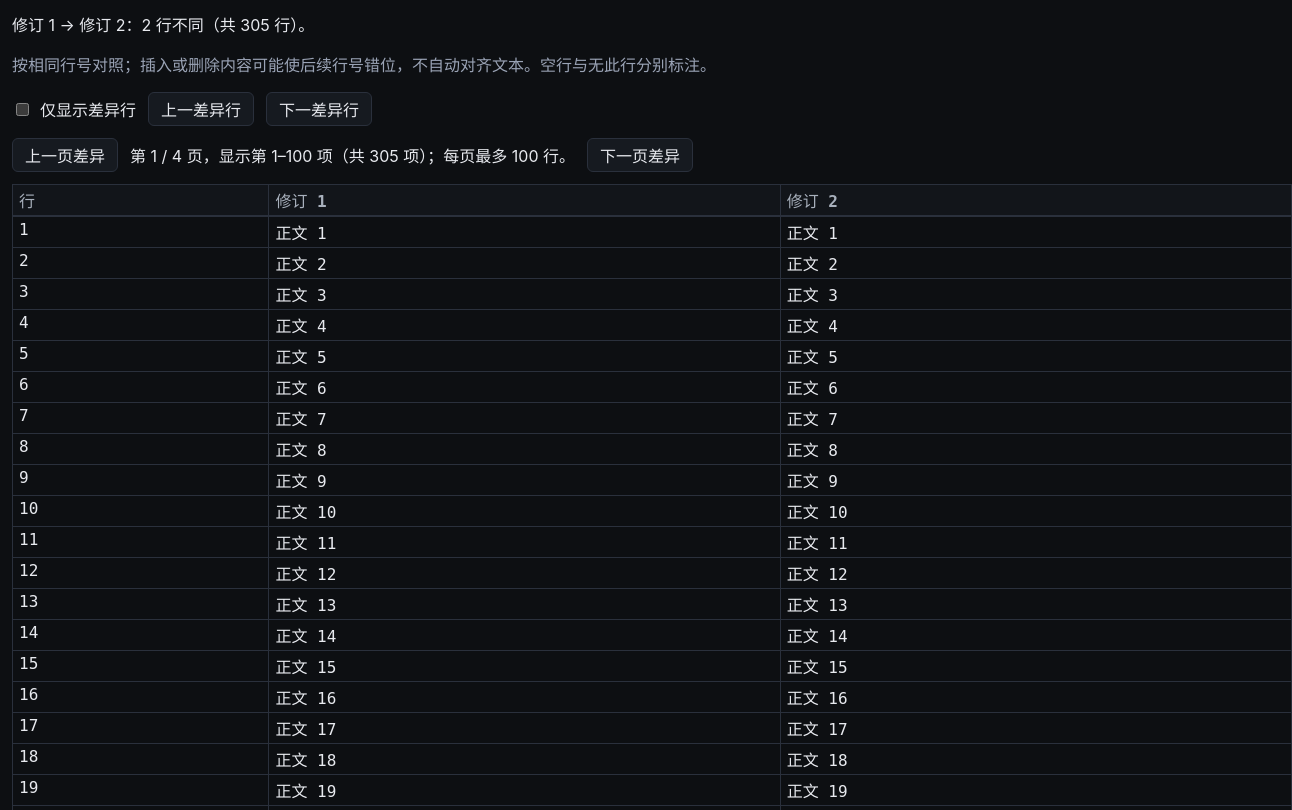
Test: Prompt revision comparison usability › jumps between sparse changed lines across pages and focuses the actual original row
Expected: the button "上一差异行" is disabled, [148,92,254,126]
What coordinates should you click on to do the following:
click the button "下一差异行"
I would click on:
 (319, 109)
Its box is [266,92,372,126].
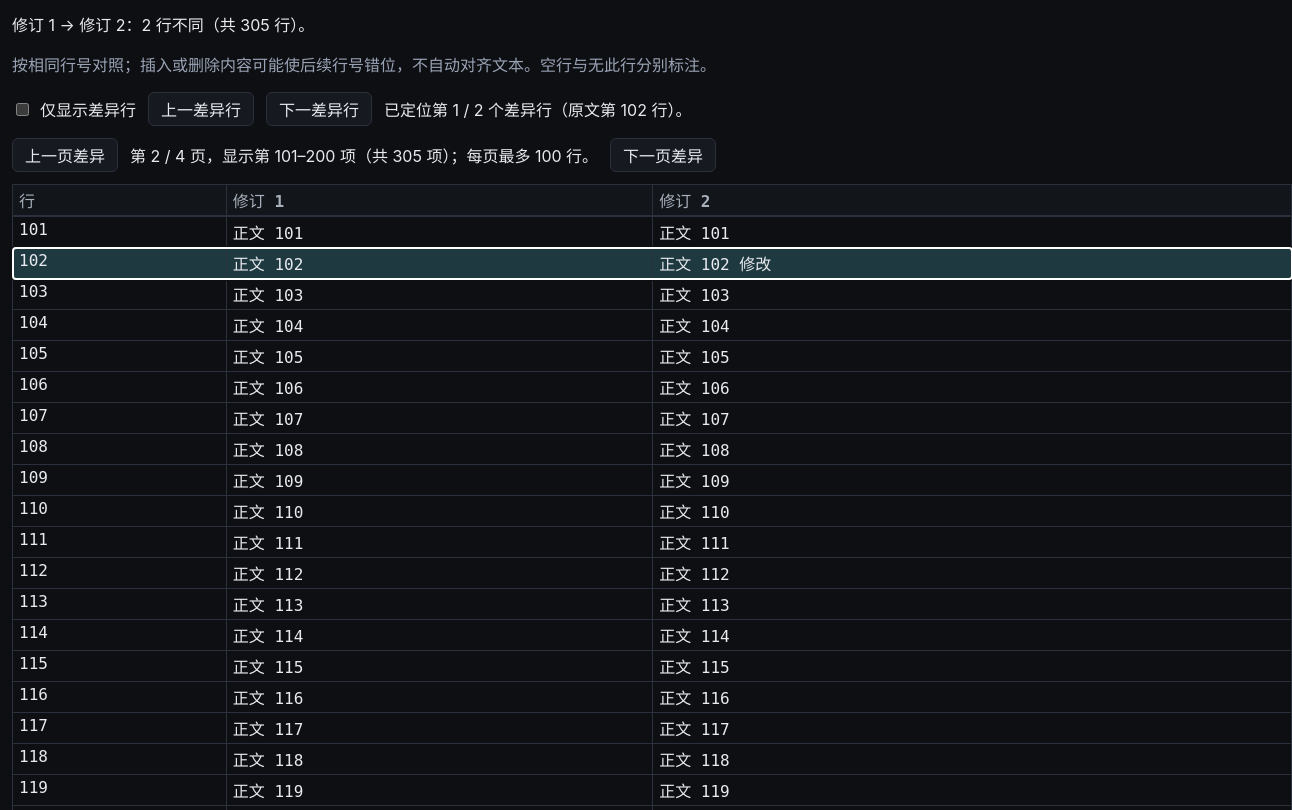
Expected: the text "第 2 / 4 页，显示第 101–200 项（共 305 项）；每页最多 100 行。" is shown, [130,143,598,167]
Expected: the text "102" is shown, [12,248,226,278]
Expected: the text "已定位第 1 / 2 个差异行（原文第 102 行）。" is shown, [384,97,691,121]
What coordinates should you click on to do the following:
click the button "下一差异行"
I would click on:
 (319, 109)
Its box is [266,92,372,126].
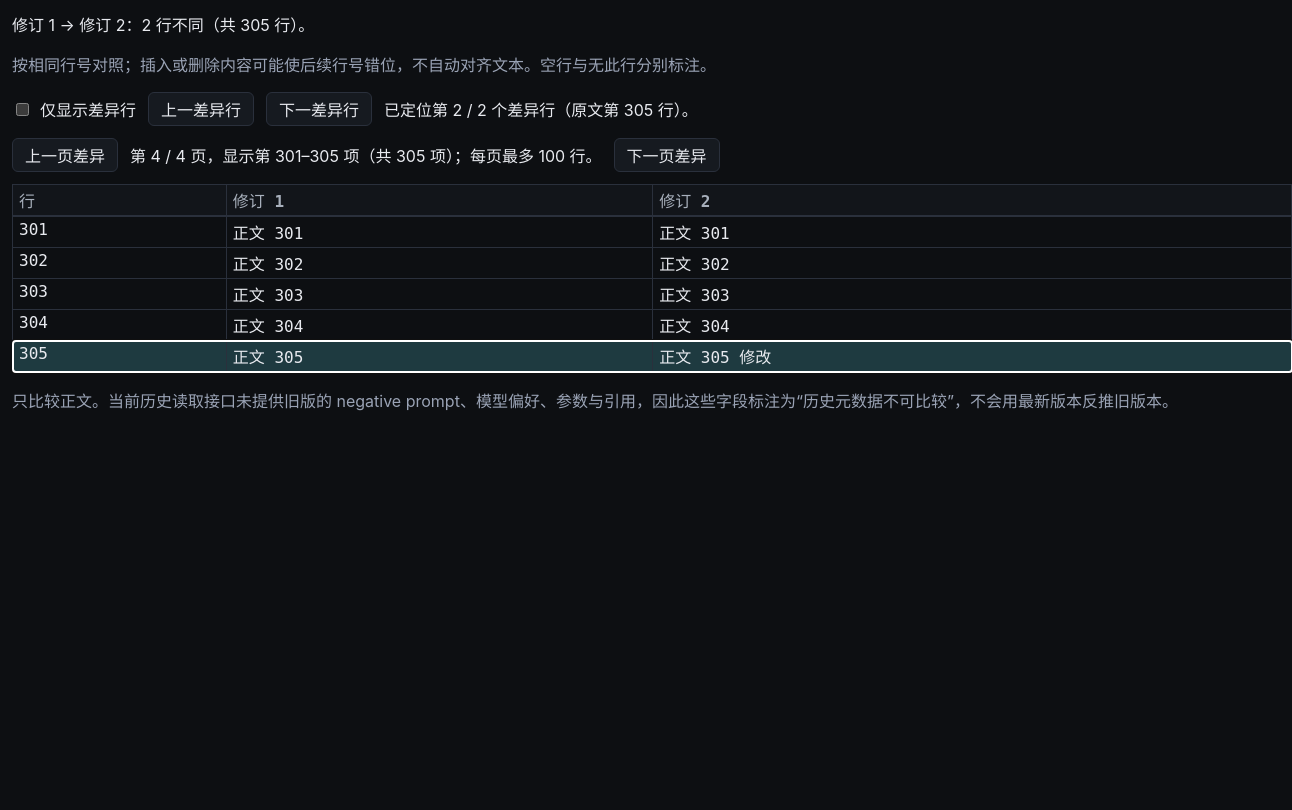
Expected: the text "第 4 / 4 页，显示第 301–305 项（共 305 项）；每页最多 100 行。" is shown, [130,143,602,167]
Expected: the text "305" is shown, [12,340,226,372]
What coordinates should you click on to do the following:
click the button "上一差异行"
I would click on:
 (201, 109)
Its box is [148,92,254,126].
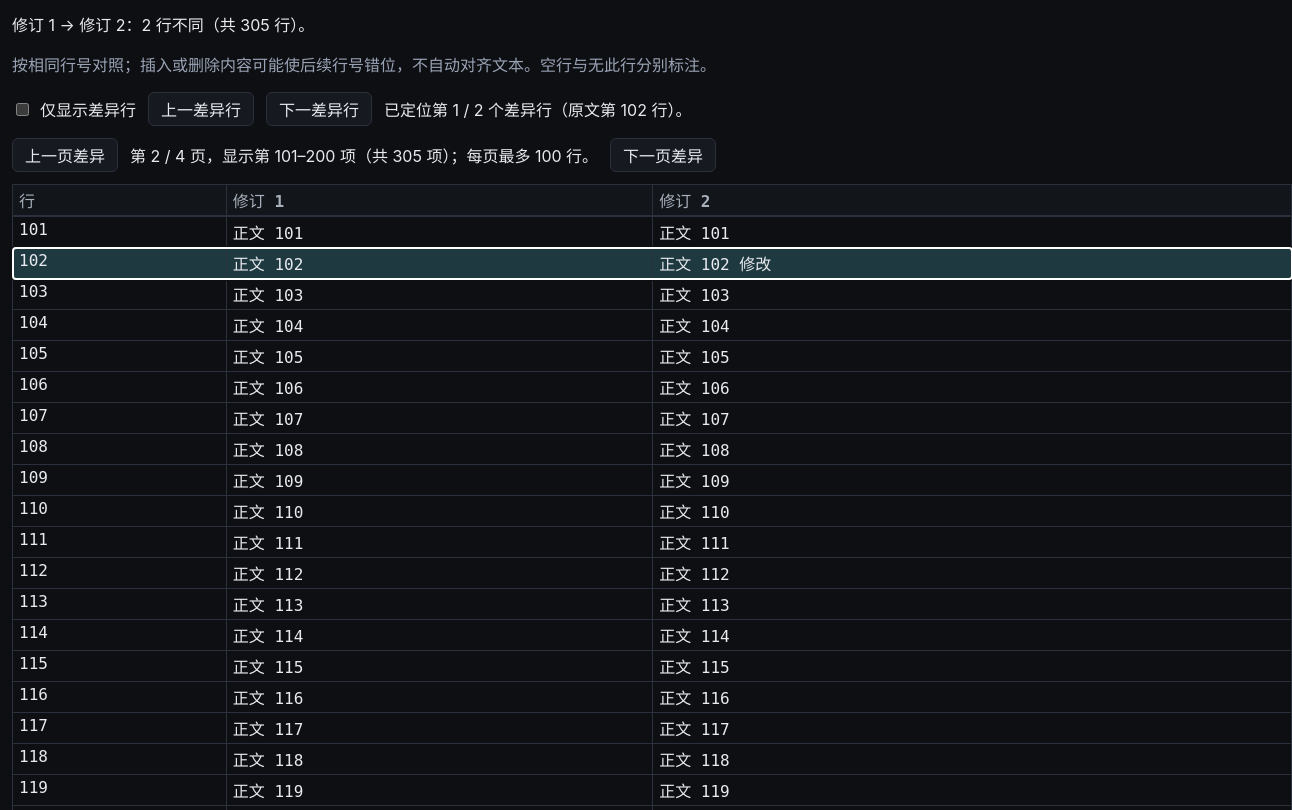
Expected: the text "102" is shown, [12,248,226,278]
